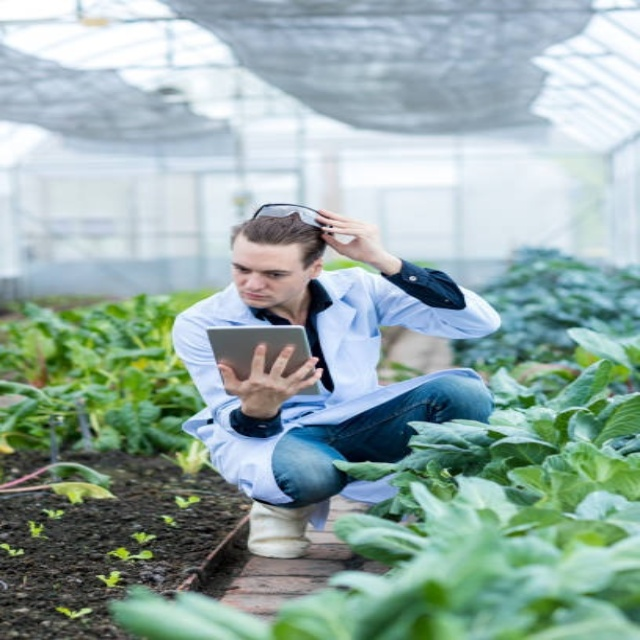Sin_gafas: (229, 258, 293, 279)
Sin_guantes: (218, 341, 323, 414), (315, 208, 389, 264)
Sin_mascara: (235, 287, 275, 305)
